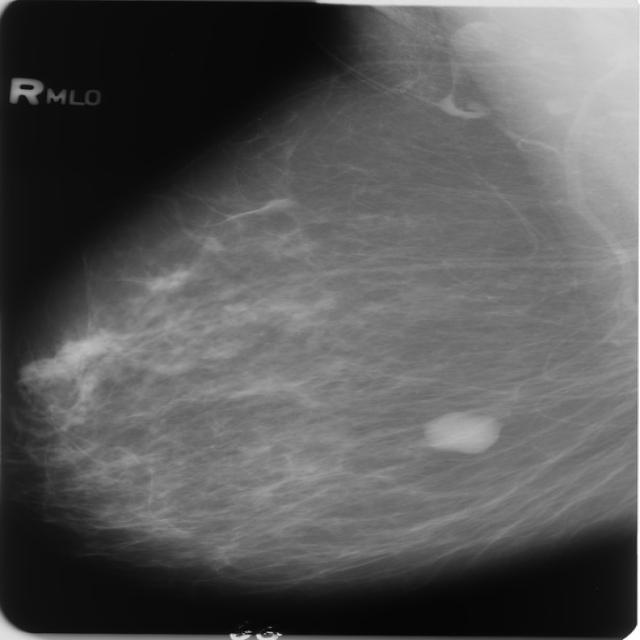tumour: (421, 411, 500, 452)
